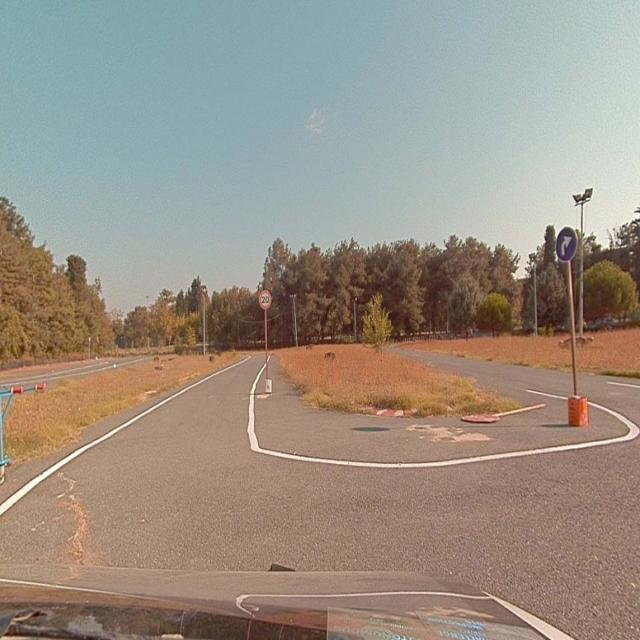20: (259, 289, 272, 308)
sag: (556, 228, 577, 263)
